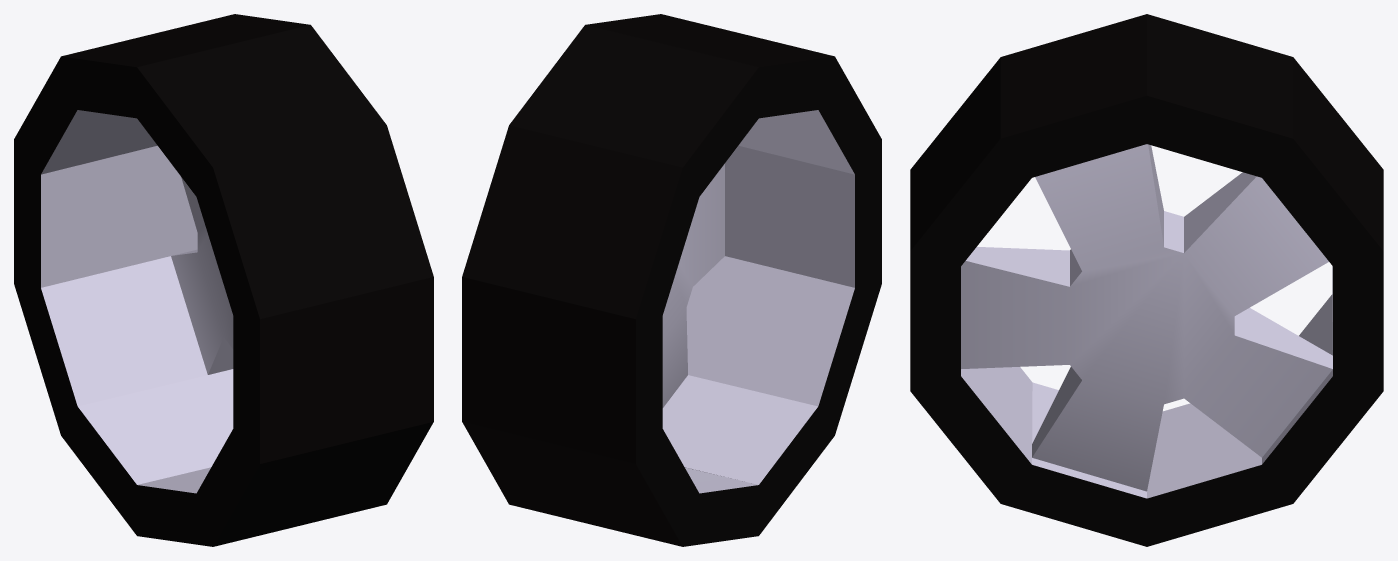
Rendered from Wheel3 1.fbx.
The picture shows the model from 3 angles, left to right: view 1: azimuth 30°, elevation 25°; view 2: azimuth 150°, elevation 25°; view 3: azimuth 270°, elevation 25°; orthographic projection. The views are drawn at different scales.
Visible parts, largest first — view 1: Wheel3; view 2: Wheel3; view 3: Wheel3.
Boxes of the visible parts, x1=… form: Wheel3: x1=14, y1=14, x2=433, y2=546; Wheel3: x1=462, y1=14, x2=881, y2=546; Wheel3: x1=910, y1=14, x2=1383, y2=546.
Bounding box in the file's own units: 0.3364 × 0.8212 × 0.781.
